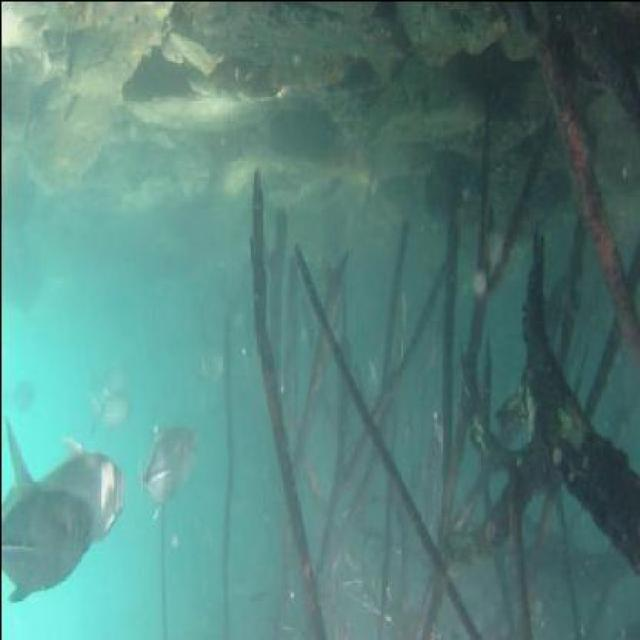Caranx_sexfasciatus_juvenile: (0, 427, 120, 555), (0, 480, 94, 611), (134, 408, 198, 532), (78, 351, 139, 404), (74, 389, 128, 438)
